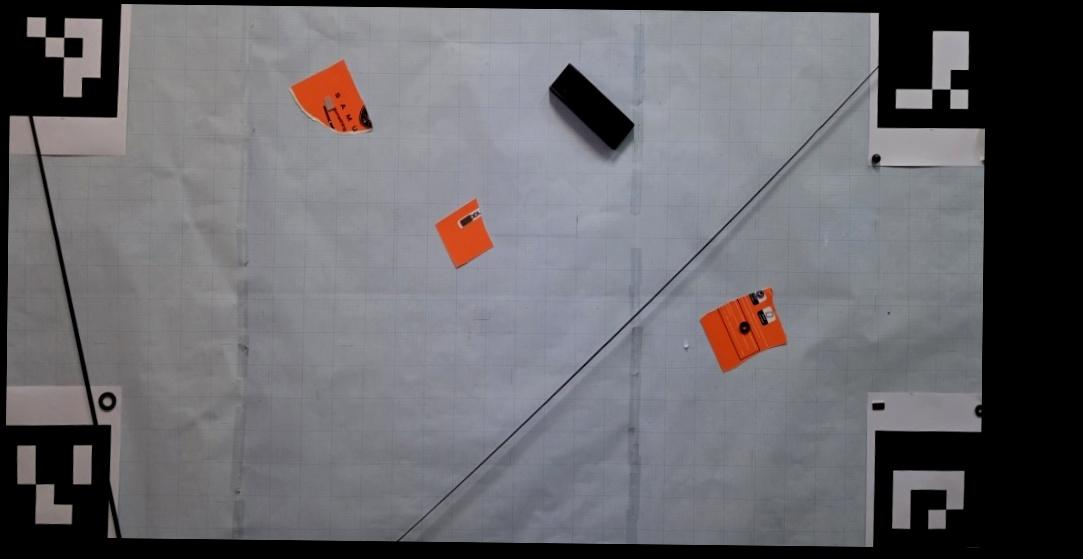obstacle: (549, 64, 636, 153), (699, 287, 787, 374), (291, 59, 373, 134), (435, 199, 493, 269)
